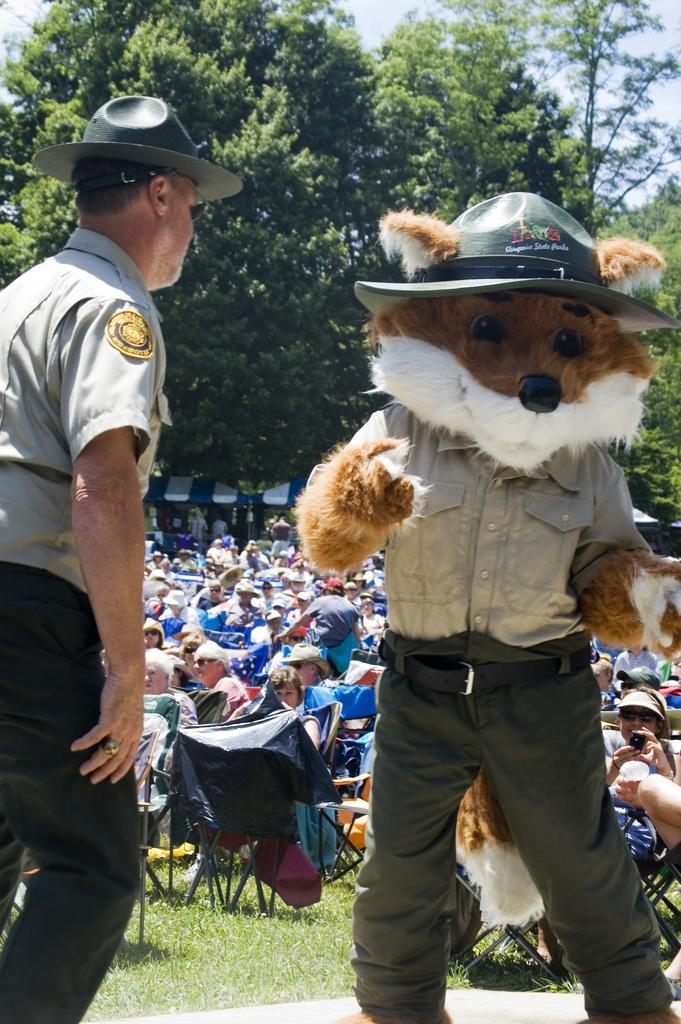Hat: (350, 192, 679, 329), (32, 94, 244, 208), (616, 690, 665, 728)
